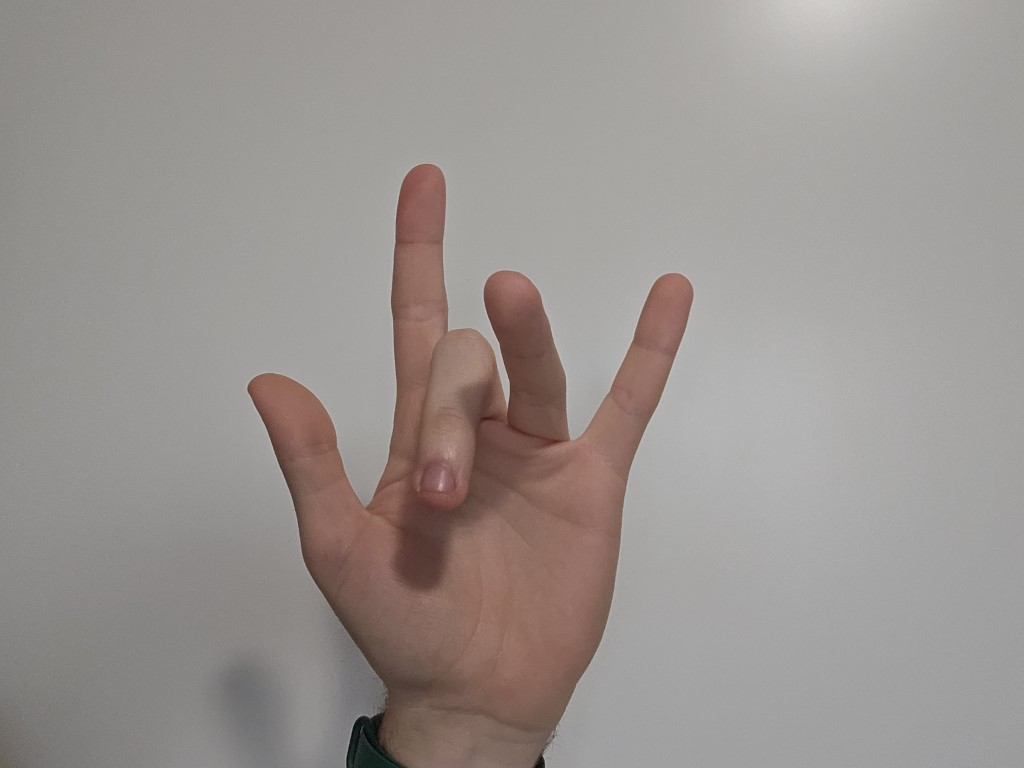reset: (165, 130, 727, 725)
